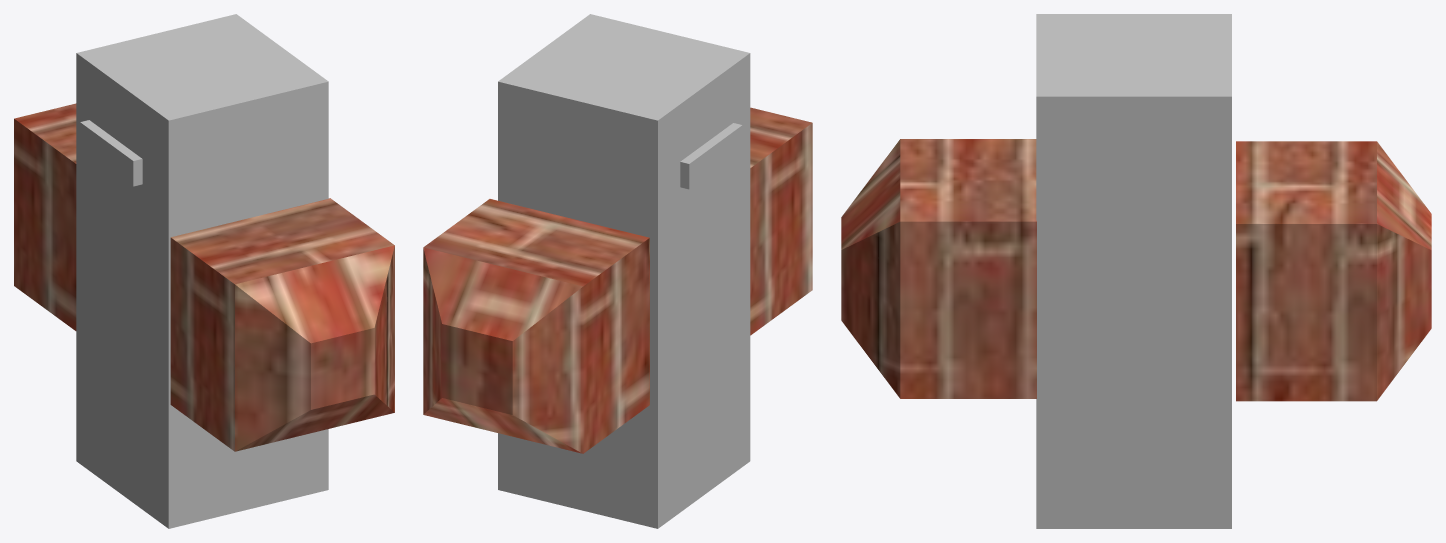
File: BinGus.obj
The picture shows the model from 3 angles, left to right: view 1: azimuth 30°, elevation 25°; view 2: azimuth 150°, elevation 25°; view 3: azimuth 270°, elevation 25°; orthographic projection. The views are drawn at different scales.
Parts seen in each view (by area): view 1: Cube, Cube.003, Cube.001; view 2: Cube, Cube.003, Cube.001; view 3: Cube, Cube.003.
Boxes of the visible parts, x1,y1,x2,y2 form: Cube: [76, 14, 328, 528]; Cube.003: [14, 103, 394, 451]; Cube.001: [80, 120, 142, 186]; Cube: [498, 14, 750, 528]; Cube.003: [423, 107, 812, 453]; Cube.001: [680, 123, 742, 189]; Cube: [1036, 14, 1231, 528]; Cube.003: [841, 139, 1431, 401].
Size of the model in its own units: 2.25 by 4.88 by 6.04.
3 materials, 1 textured.
